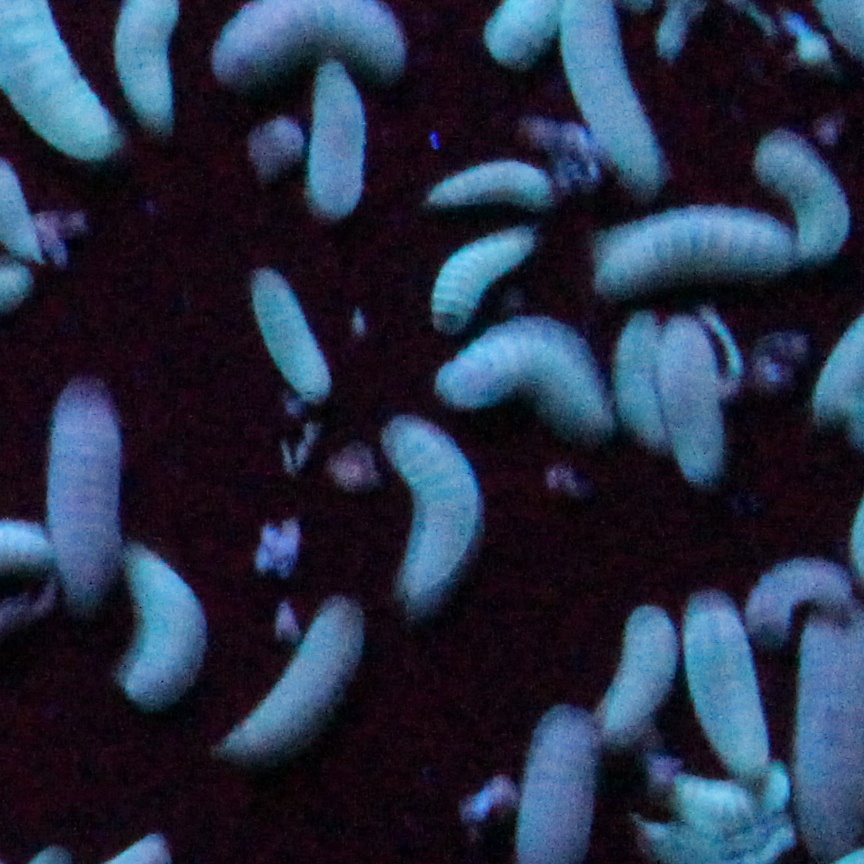larve: (217, 588, 366, 767), (365, 408, 493, 611), (670, 585, 781, 770), (643, 313, 745, 498), (750, 111, 852, 280), (119, 534, 207, 726), (281, 52, 380, 219), (52, 393, 125, 603), (416, 211, 542, 332), (248, 258, 342, 404)
